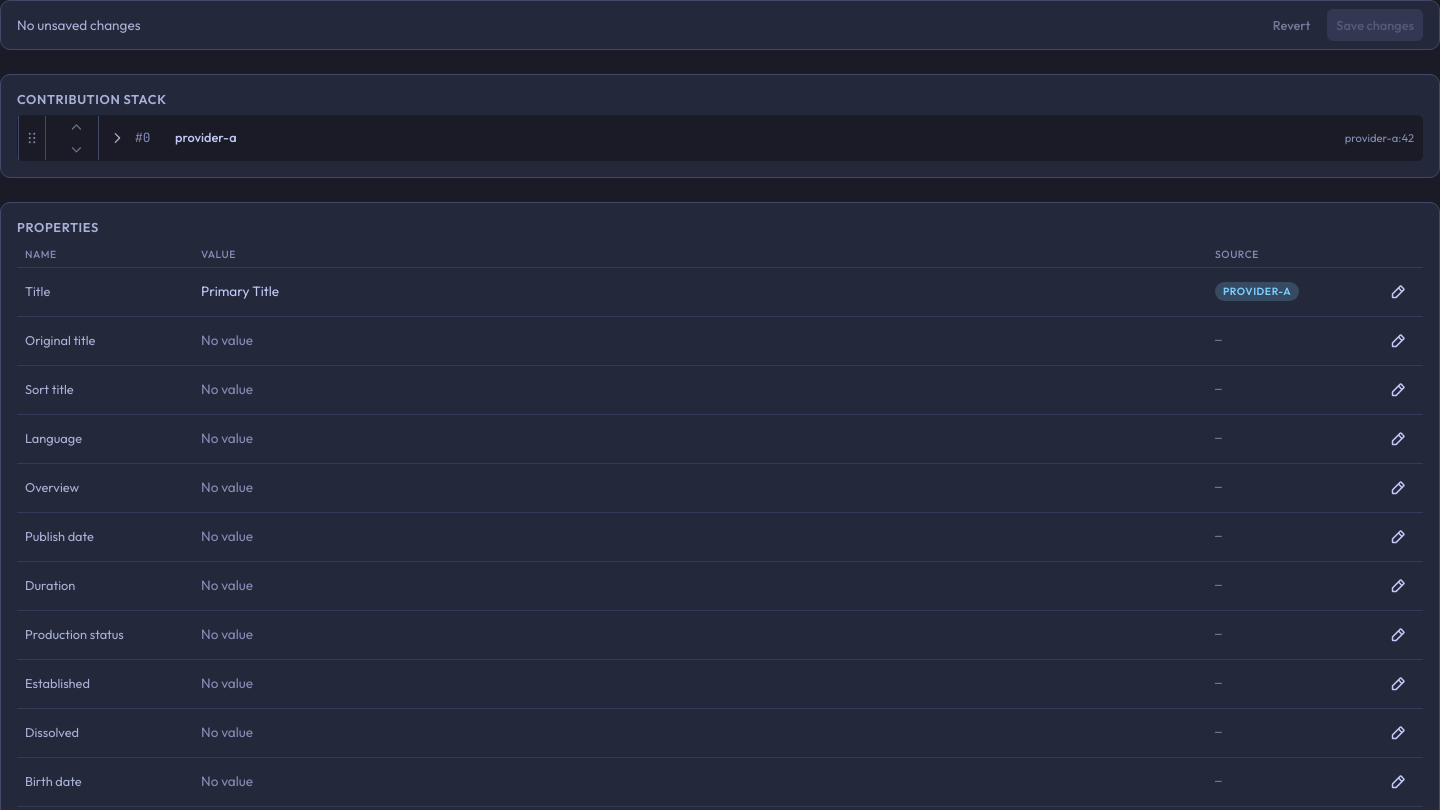
MetadataInspector › marks an edited row unsaved with its overridden value and source
The image size is (1440, 810).
Click the button named "Edit Title" at (1398, 292), box [1381, 276, 1415, 308]
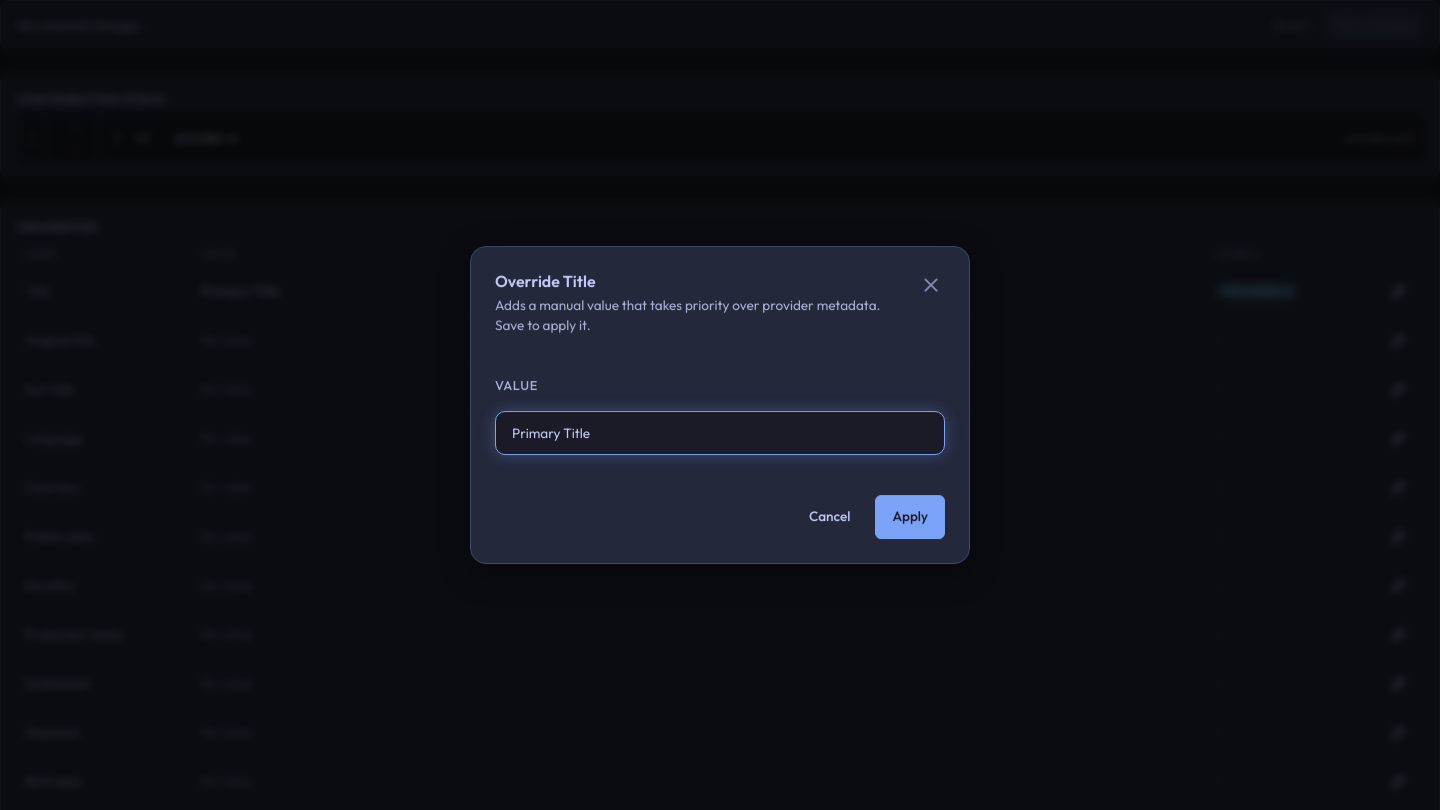
Result: the heading "Override Title" is shown at [495, 271, 596, 291]
Replace the text in the field labelled "Value" with "Operator Title" at (720, 433), box [496, 415, 944, 451]
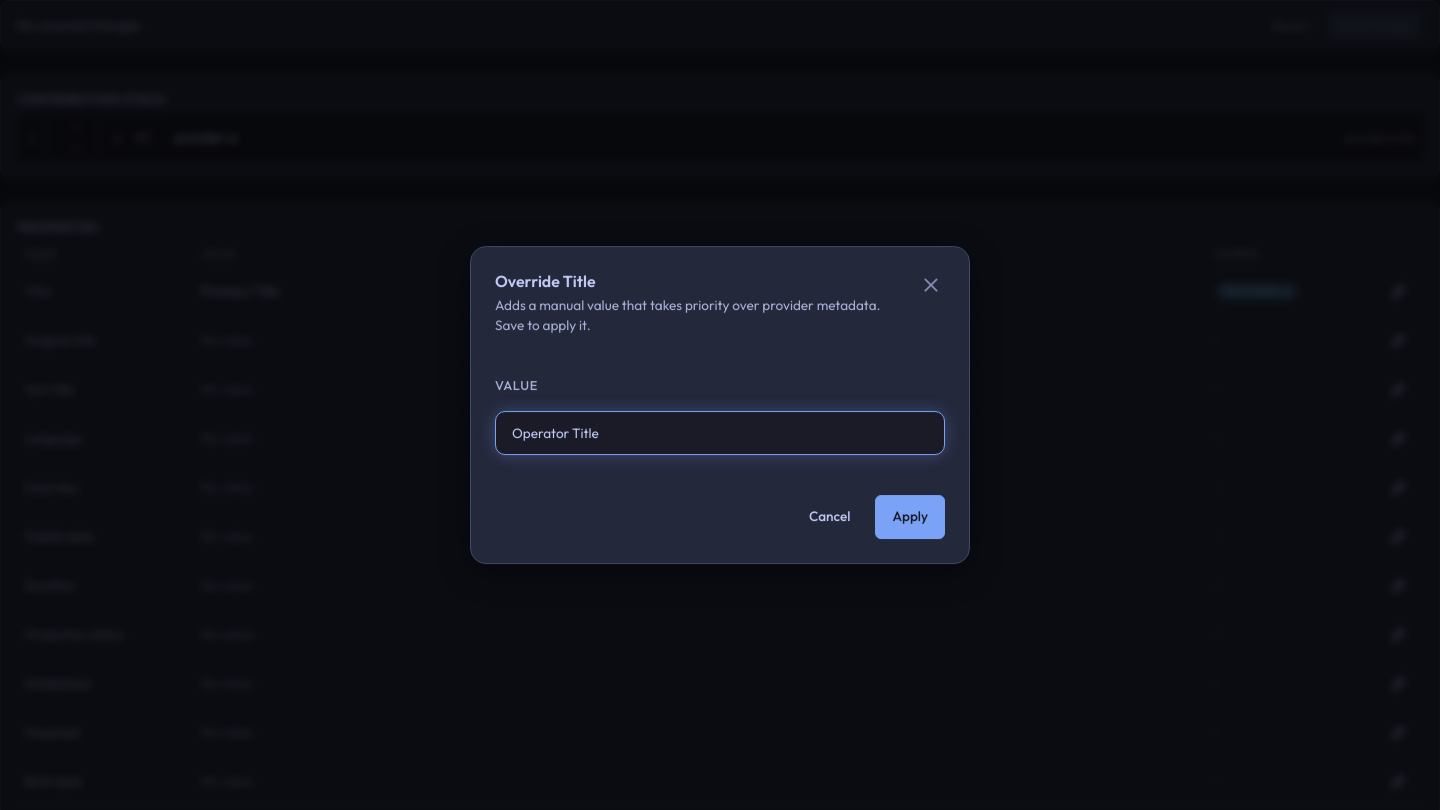
Click the button "Apply" at (910, 517), box [876, 495, 945, 539]
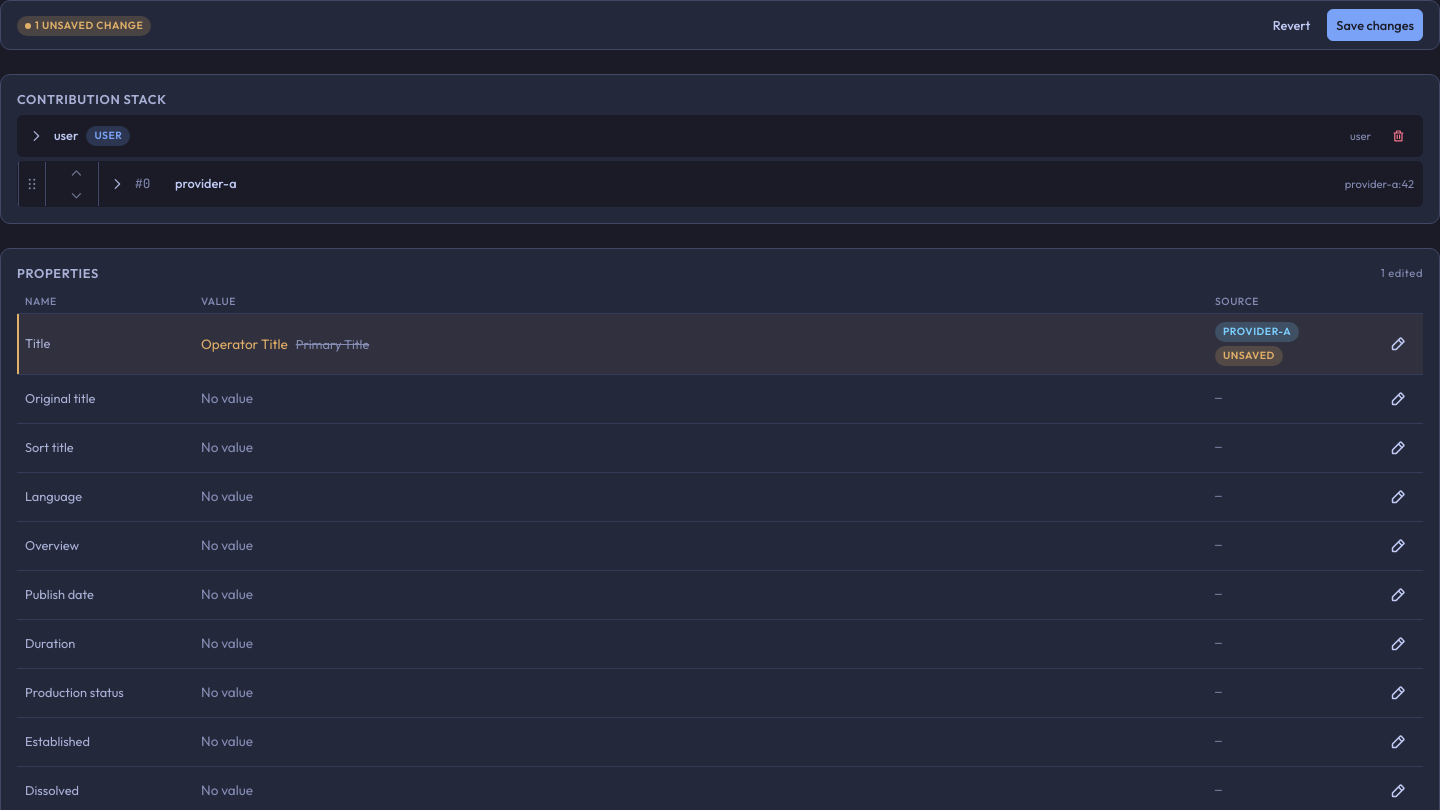
Result: the text "Operator Title" is shown at [201, 335, 288, 353]
Result: the text "unsaved" is shown at [1215, 346, 1283, 366]
Result: the text with test id "edited-field-count" reads "1 edited" at [1381, 265, 1423, 282]
